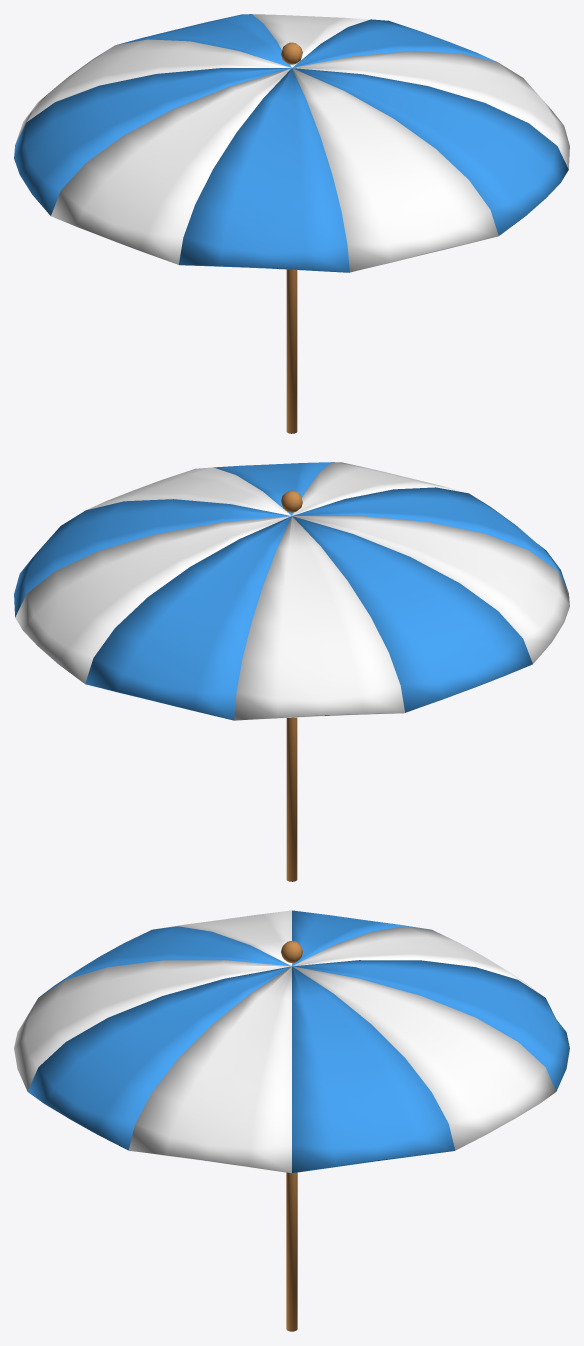
The model's file is umbrella_blue.glb.
The picture shows the model from 3 angles, top to bottom: view 1: azimuth 30°, elevation 25°; view 2: azimuth 150°, elevation 25°; view 3: azimuth 270°, elevation 25°; orthographic projection.
Parts seen in each view (by area): view 1: umbrella_blue; view 2: umbrella_blue; view 3: umbrella_blue.
Boxes of the visible parts, box(x1,y1,x2,y2) form: umbrella_blue: box(14, 14, 569, 433); umbrella_blue: box(14, 462, 569, 881); umbrella_blue: box(14, 910, 569, 1331).
Bounding box in the file's own units: 3.5 × 2.69 × 3.5.
